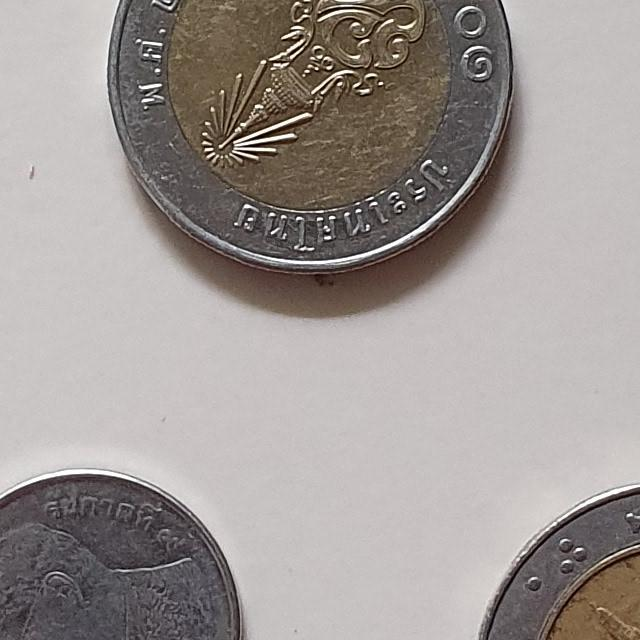1 Bath: (1, 465, 250, 640)
10 Bath: (103, 1, 523, 288), (470, 480, 640, 640)
